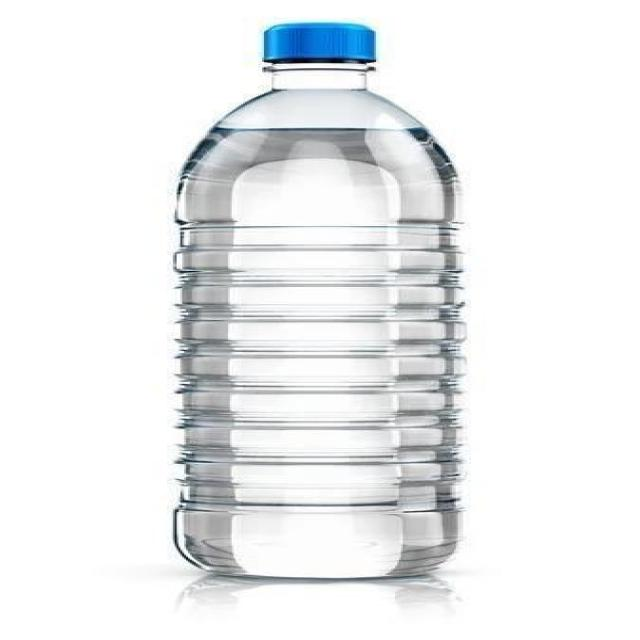plastic bottle: (156, 13, 477, 590)
